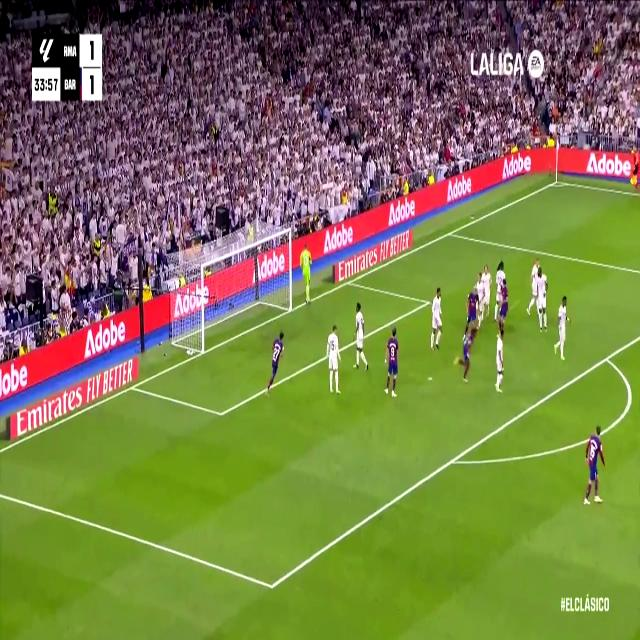bigarea_bottom_inner: (265, 567, 279, 604)
bigarea_top_outter: (446, 225, 454, 240)
bottom_arc_area_intersection: (446, 445, 460, 475)
corner: (550, 174, 562, 189)
smallarea_bottom_inner: (216, 401, 227, 426)
smallarea_bottom_outter: (128, 379, 137, 395)
smallarea_top_inner: (423, 291, 432, 313)
top_arc_area_intersection: (602, 346, 612, 368)
